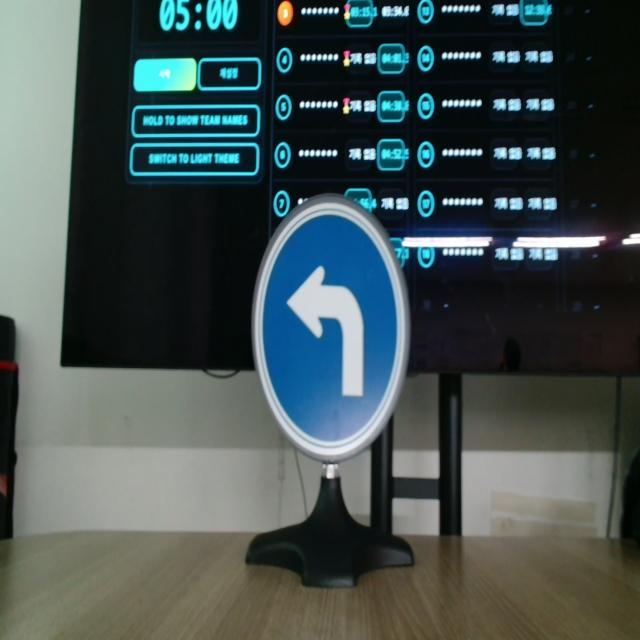left_direction: (245, 194, 411, 459)
